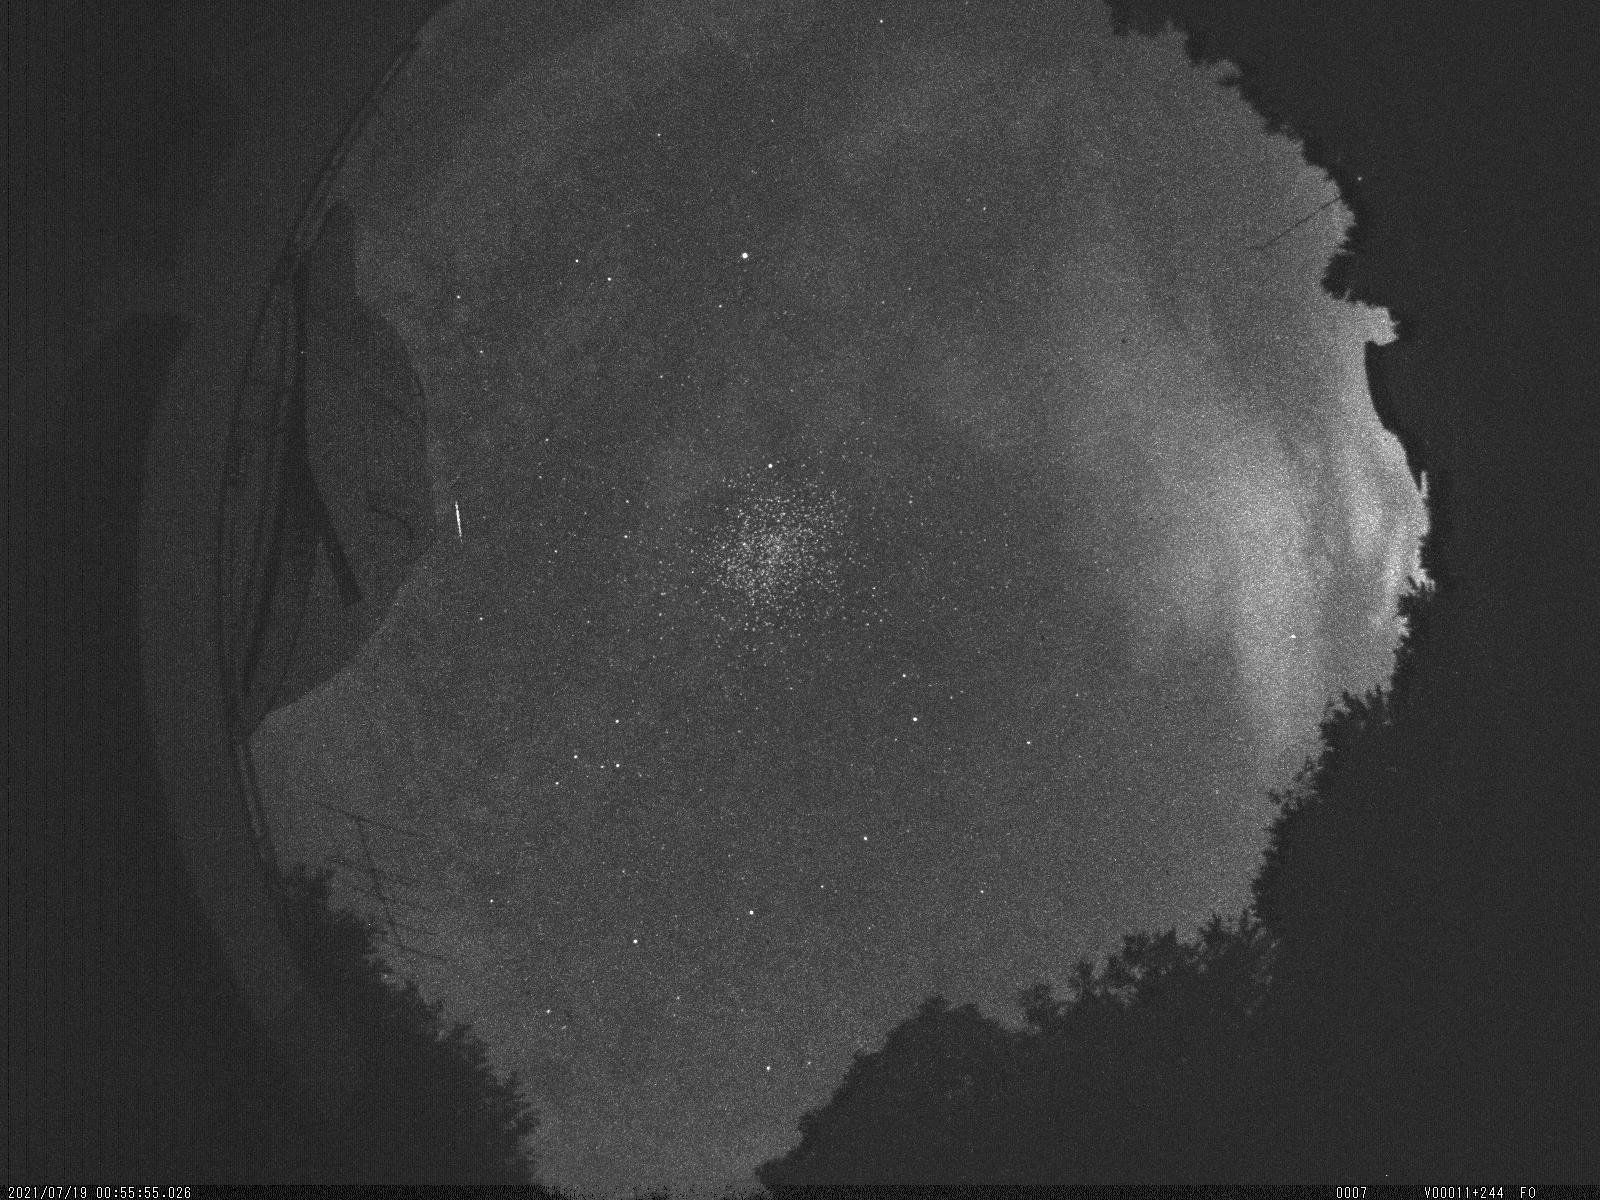Meteor: (447, 495, 466, 542)
